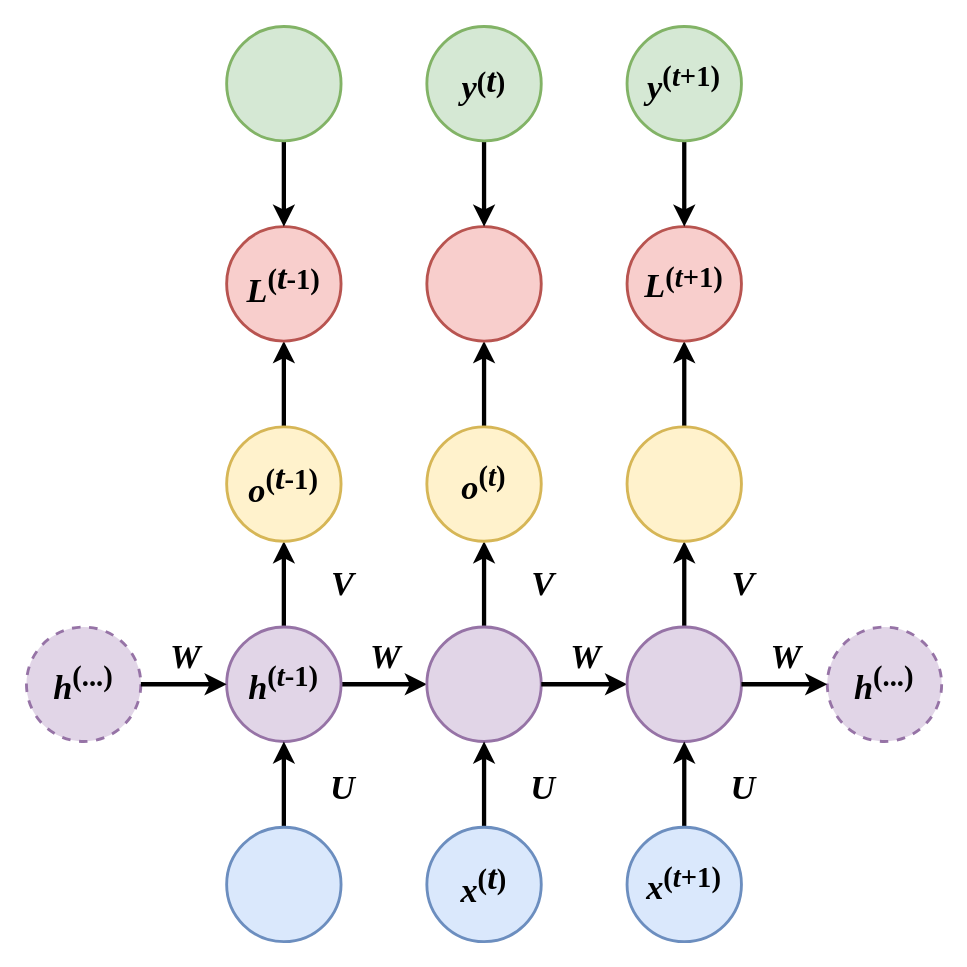
The diagram is 967 pixels wide and 967 high, and some of its shapes have lost their labels. Here are the shapes that lost their labels. From the top down, the centre of each, then its label:
At pixel 283 83: "y ( t -1)".
At pixel 483 283: "L ( t )".
At pixel 683 483: "o ( t +1)".
At pixel 483 683: "h ( t )".
At pixel 683 683: "h ( t +1)".
At pixel 283 883: "x ( t -1)".
